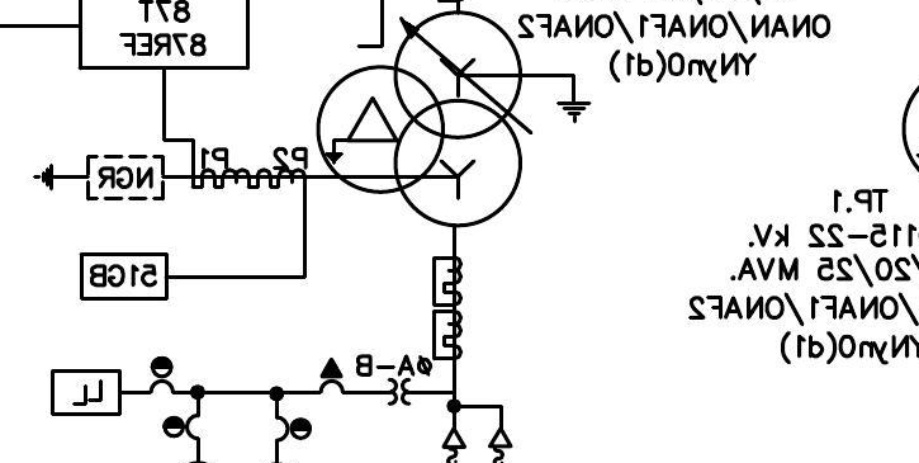11522_tx_ynyn0d1: (315, 9, 524, 229)
LL: (50, 369, 123, 416)
NGR_future: (32, 154, 166, 201)
terminator_double: (441, 403, 514, 450)
